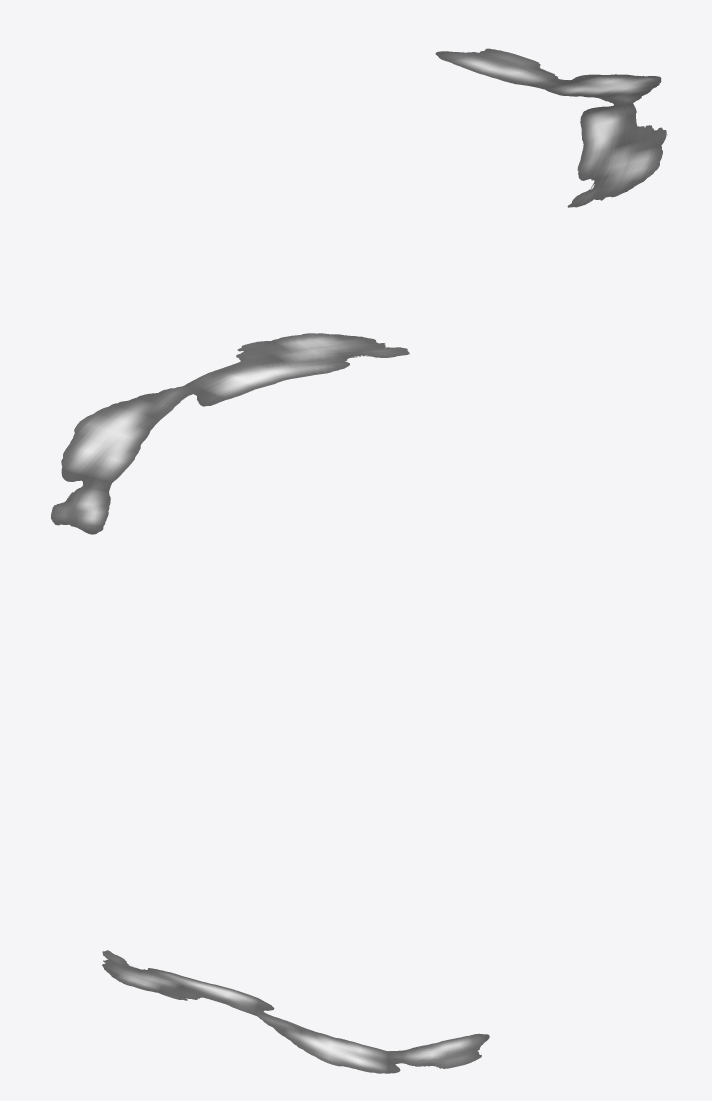
Rendered from efsp_music_trail001.FBX.
3 renders of one model, top to bottom at view 1: azimuth 30°, elevation 25°; view 2: azimuth 150°, elevation 25°; view 3: azimuth 270°, elevation 25°, orthographic. The views are drawn at different scales.
Parts seen in each view (by area): view 1: Plane001; view 2: Plane001; view 3: Plane001.
Part boxes in pixels (bbox=[...]): Plane001: bbox=[435, 48, 667, 207]; Plane001: bbox=[51, 333, 409, 534]; Plane001: bbox=[102, 950, 489, 1073].
Size of the model in its own units: 75.45 by 31.29 by 106.
